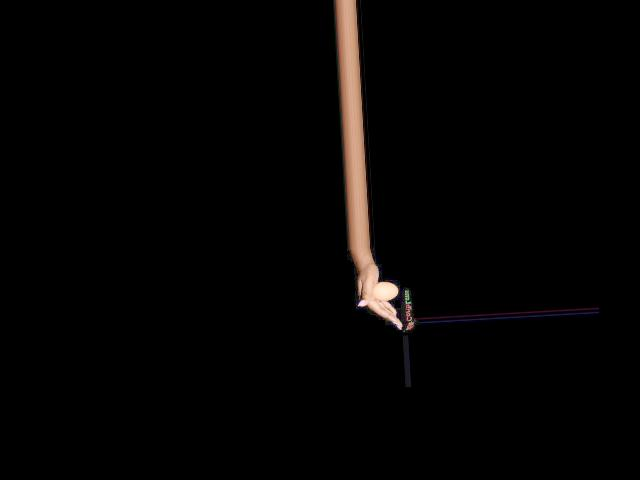egg: (372, 280, 398, 301)
